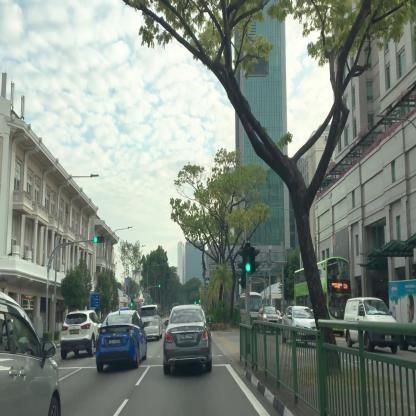green_traffic_light: (245, 243, 250, 274), (93, 235, 104, 243)
